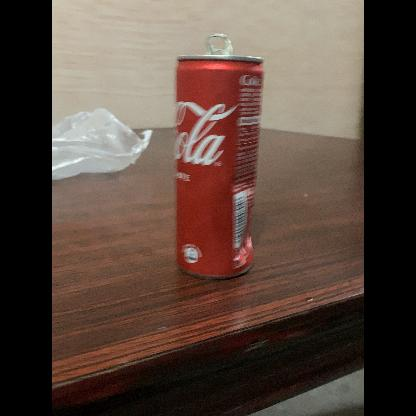Dent_Can: (232, 221, 256, 263), (229, 171, 257, 201)
Lid_Open: (200, 29, 240, 68)
Tin_Can: (167, 29, 269, 283)
